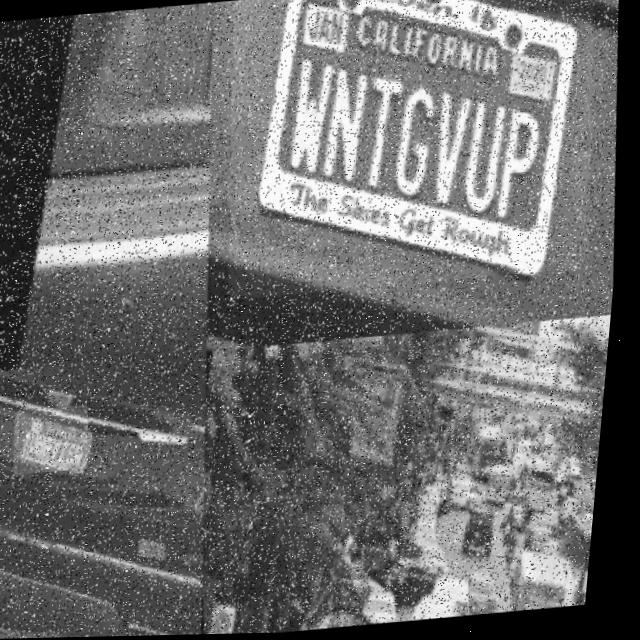LicensePlate: (213, 0, 613, 301), (22, 410, 95, 470), (370, 615, 389, 627)
